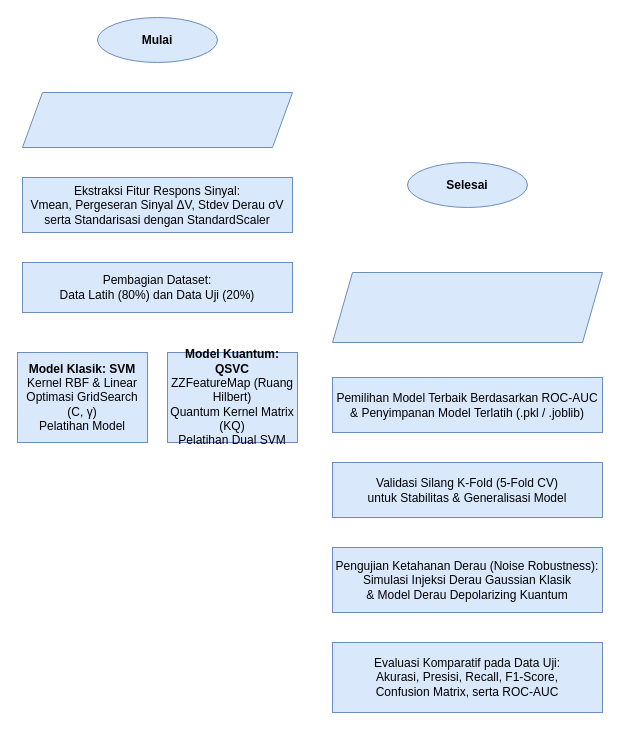
Image size: 620x730. Some labels were removed from this diagram. The box of each missing label's shape, as (x1, y1, x2, y2) in pixels:
Memuat Dataset Sinyal Sensor TMR Variasi Konsentrasi Formalin pada Bakso: (22, 92, 292, 148)
Penyimpanan Data Metrik Komparasi & Laporan Hasil Evaluasi dalam Format .csv: (332, 272, 602, 342)
